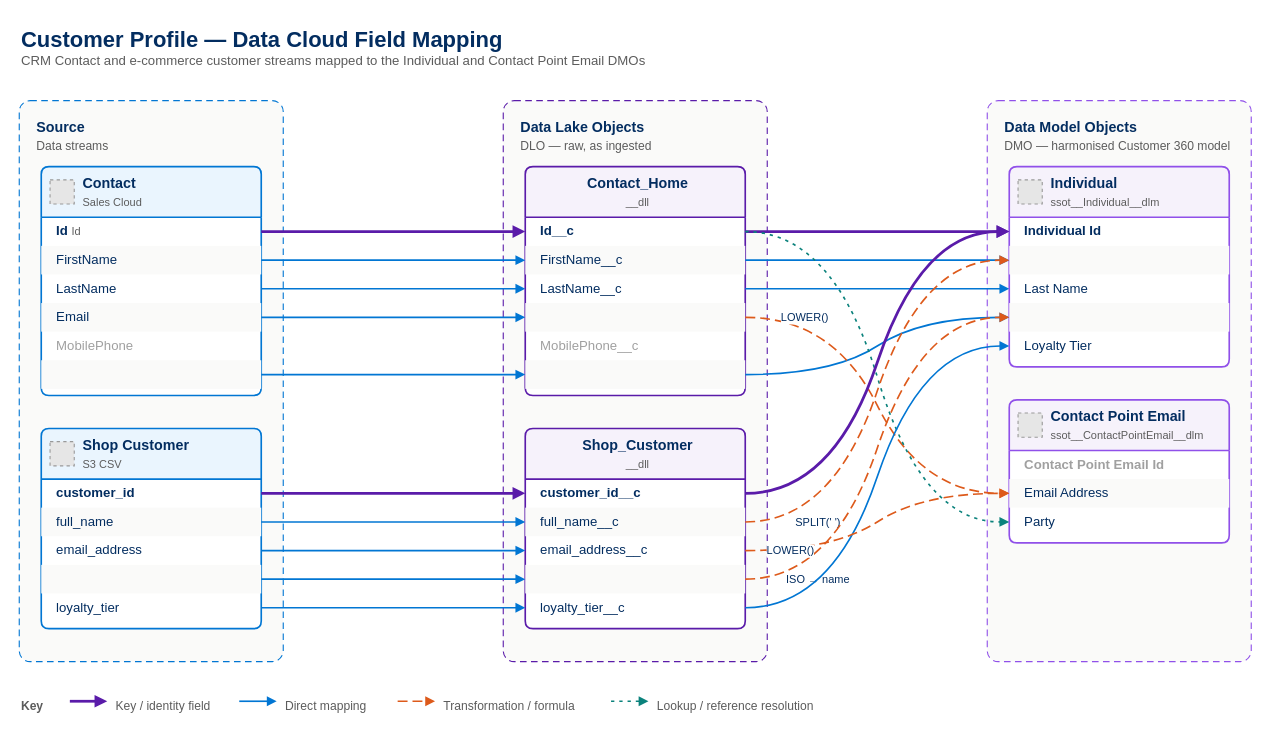
This 1271x732 diagram has some shape labels left out. Grey dashed boxes stand in for pictures. The centre of each missing label's shape, as x and y in pixels:
Country: the point at 1119,316
country_code: the point at 151,578
country_code__c: the point at 635,578
Email__c: the point at 635,316
First Name: the point at 1119,259
MailingCountry: the point at 151,374
MailingCountry__c: the point at 635,374
